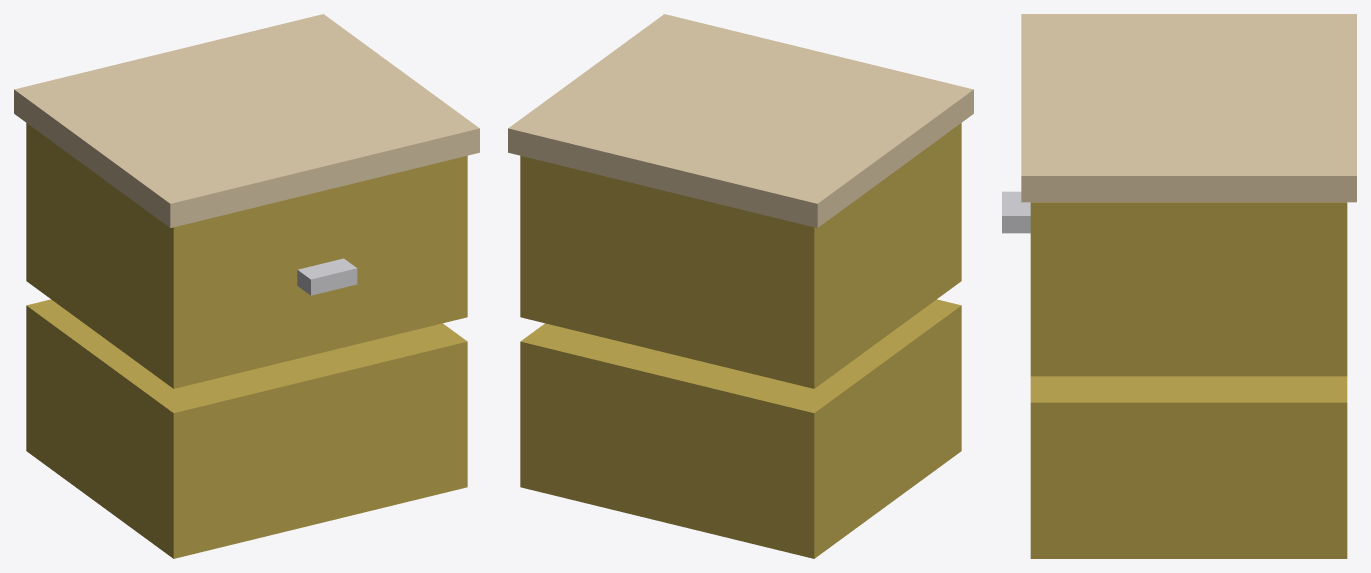
File: night_table.glb
The picture shows the model from 3 angles, left to right: view 1: azimuth 30°, elevation 25°; view 2: azimuth 150°, elevation 25°; view 3: azimuth 270°, elevation 25°; orthographic projection. The views are drawn at different scales.
Parts seen in each view (by area): view 1: cabinet, drawer, top, handle; view 2: cabinet, drawer, top; view 3: top, cabinet, drawer, handle.
Boxes of the visible parts, x1,y1,x2,y2 form: cabinet: (26,299,467,558); drawer: (26,123,467,388); top: (14,14,479,227); handle: (297,258,357,295); cabinet: (520,299,961,558); drawer: (520,123,961,388); top: (508,14,973,227); top: (1021,14,1356,202); cabinet: (1030,376,1347,558); drawer: (1030,202,1347,376); handle: (1002,191,1030,233).
Size of the model in its own units: 0.4 by 0.445 by 0.37.
